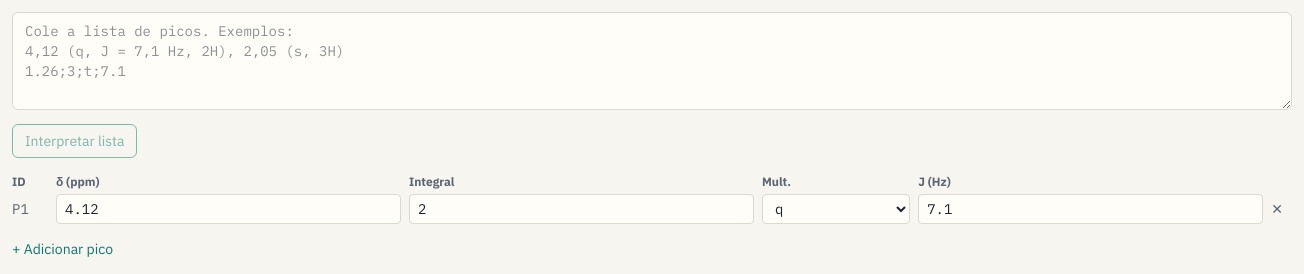
PeakTableEditor › shows the parsed values after interpreting a list again
The width and height of the screenshot is (1304, 274).
Replace the text in the field named "δ de P1" with "9.9": (228, 209) [56,194,401,224]
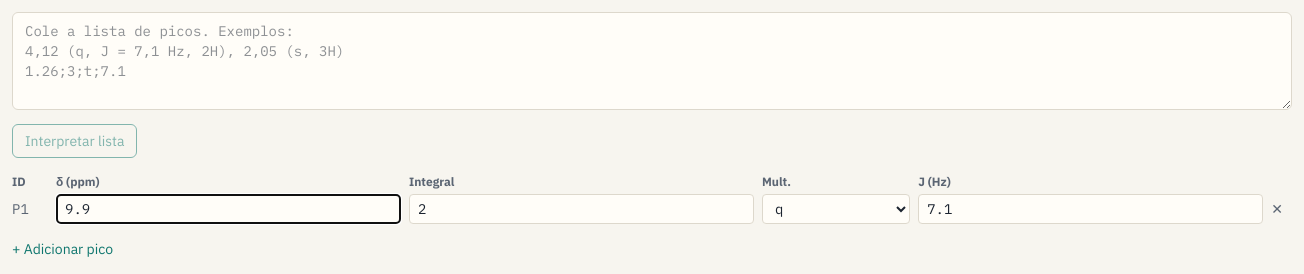
In the text box with test id "peak-paste": (652, 61) [12,12,1292,110], type "2.05 3 s"
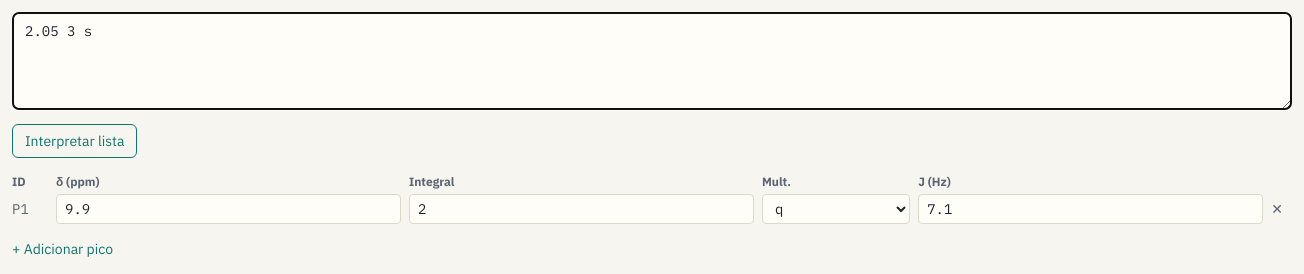
Click the button "Interpretar lista": (75, 141) [12,124,137,158]
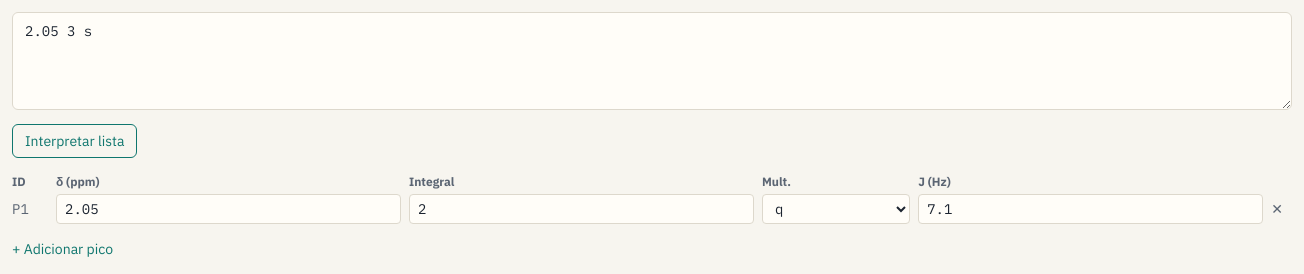
expect the field named "δ de P1" holds "2.05": met, box [56,194,401,224]
